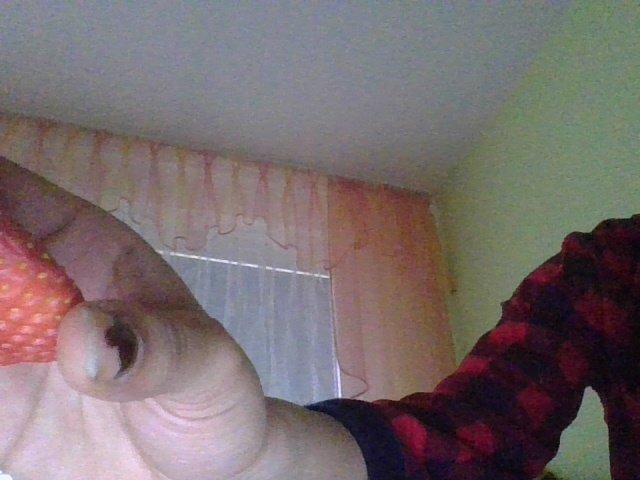ripe: (1, 212, 83, 366)
